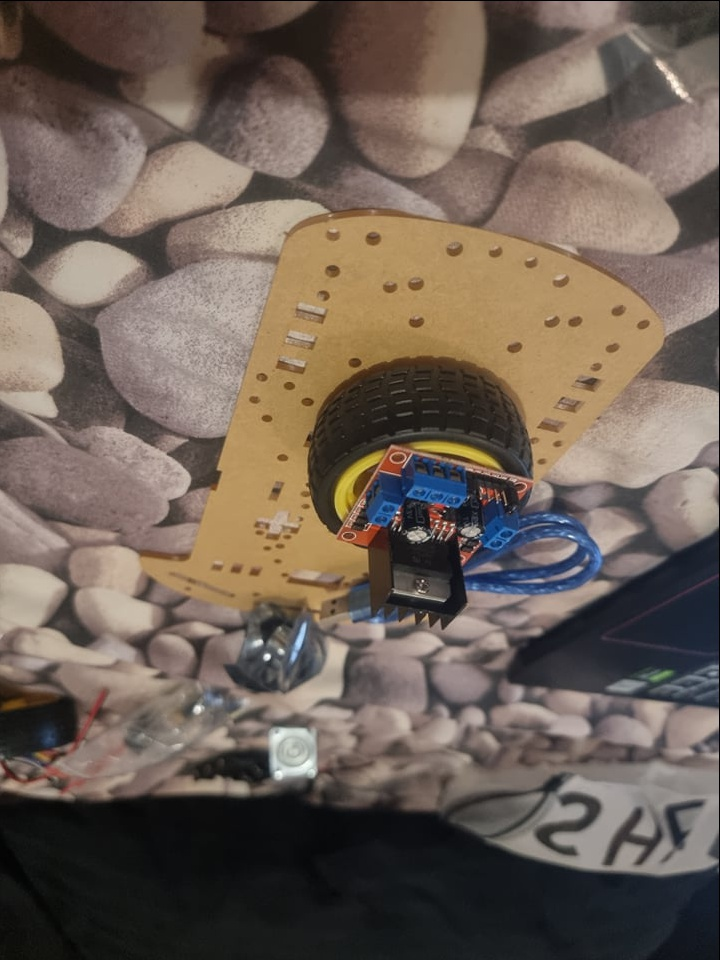MOTOR: (338, 441, 535, 630)
